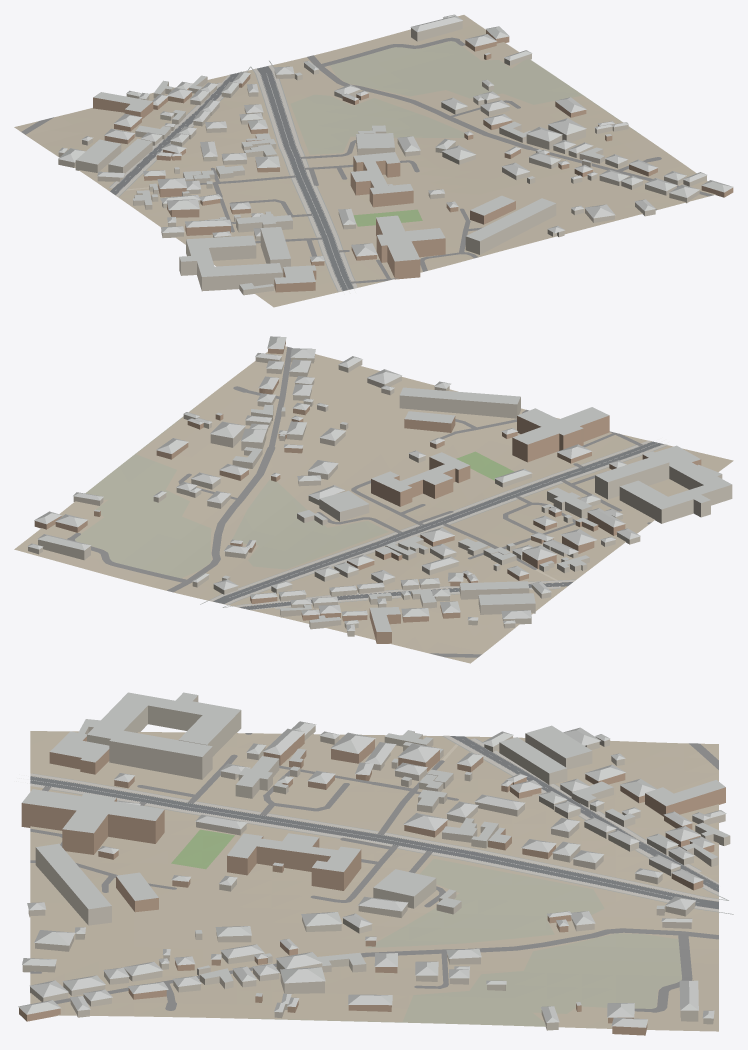
The model's file is bolak_-2_3.glb.
3 views of the same model, one above another, from view 1: azimuth 30°, elevation 25°; view 2: azimuth 150°, elevation 25°; view 3: azimuth 270°, elevation 25° (orthographic). The views are drawn at different scales.
Parts seen in each view (by area): view 1: Yer_Tuproq-col, Tom_Shifer, Yer_Qabr, Devor_Suvoq-col, Devor_Gisht-col, Yol_Mahalla-col, Yol_Asfalt-col, Trotuar, Ariq, Yer_Maysa, Yol_Chiziq; view 2: Yer_Tuproq-col, Tom_Shifer, Yer_Qabr, Devor_Suvoq-col, Devor_Gisht-col, Yol_Mahalla-col, Yol_Asfalt-col, Trotuar, Ariq, Yer_Maysa; view 3: Yer_Tuproq-col, Tom_Shifer, Yer_Qabr, Devor_Suvoq-col, Devor_Gisht-col, Yol_Mahalla-col, Yol_Asfalt-col, Trotuar, Ariq, Yer_Maysa, Yol_Chiziq.
Part boxes in pixels (x1,y1,x2,y2): Yer_Tuproq-col: (14, 15, 715, 307); Tom_Shifer: (58, 14, 733, 289); Yer_Qabr: (290, 41, 640, 154); Devor_Suvoq-col: (58, 18, 706, 295); Devor_Gisht-col: (93, 30, 733, 292); Yol_Mahalla-col: (21, 37, 713, 283); Yol_Asfalt-col: (110, 66, 353, 291); Trotuar: (109, 65, 357, 291); Ariq: (109, 60, 355, 291); Yer_Maysa: (353, 209, 422, 226); Yol_Chiziq: (115, 72, 355, 294); Yer_Tuproq-col: (14, 346, 733, 663); Tom_Shifer: (27, 336, 731, 631); Yer_Qabr: (75, 408, 388, 578); Devor_Suvoq-col: (28, 354, 732, 636); Devor_Gisht-col: (34, 341, 701, 643); Yol_Mahalla-col: (67, 346, 651, 657); Yol_Asfalt-col: (213, 441, 663, 609); Trotuar: (209, 440, 667, 610); Ariq: (200, 445, 667, 609); Yer_Maysa: (456, 451, 514, 480); Yer_Tuproq-col: (30, 731, 718, 1031); Tom_Shifer: (18, 692, 729, 1027); Yer_Qabr: (248, 859, 681, 1026); Devor_Suvoq-col: (22, 695, 730, 1030); Devor_Gisht-col: (19, 733, 725, 1035); Yol_Mahalla-col: (30, 733, 718, 1012); Yol_Asfalt-col: (30, 736, 718, 909); Trotuar: (30, 735, 718, 911); Ariq: (33, 736, 733, 914); Yer_Maysa: (171, 829, 234, 869); Yol_Chiziq: (14, 740, 719, 905).
Size of what is drawn, in the model's own units: 439 by 22.83 by 418.
